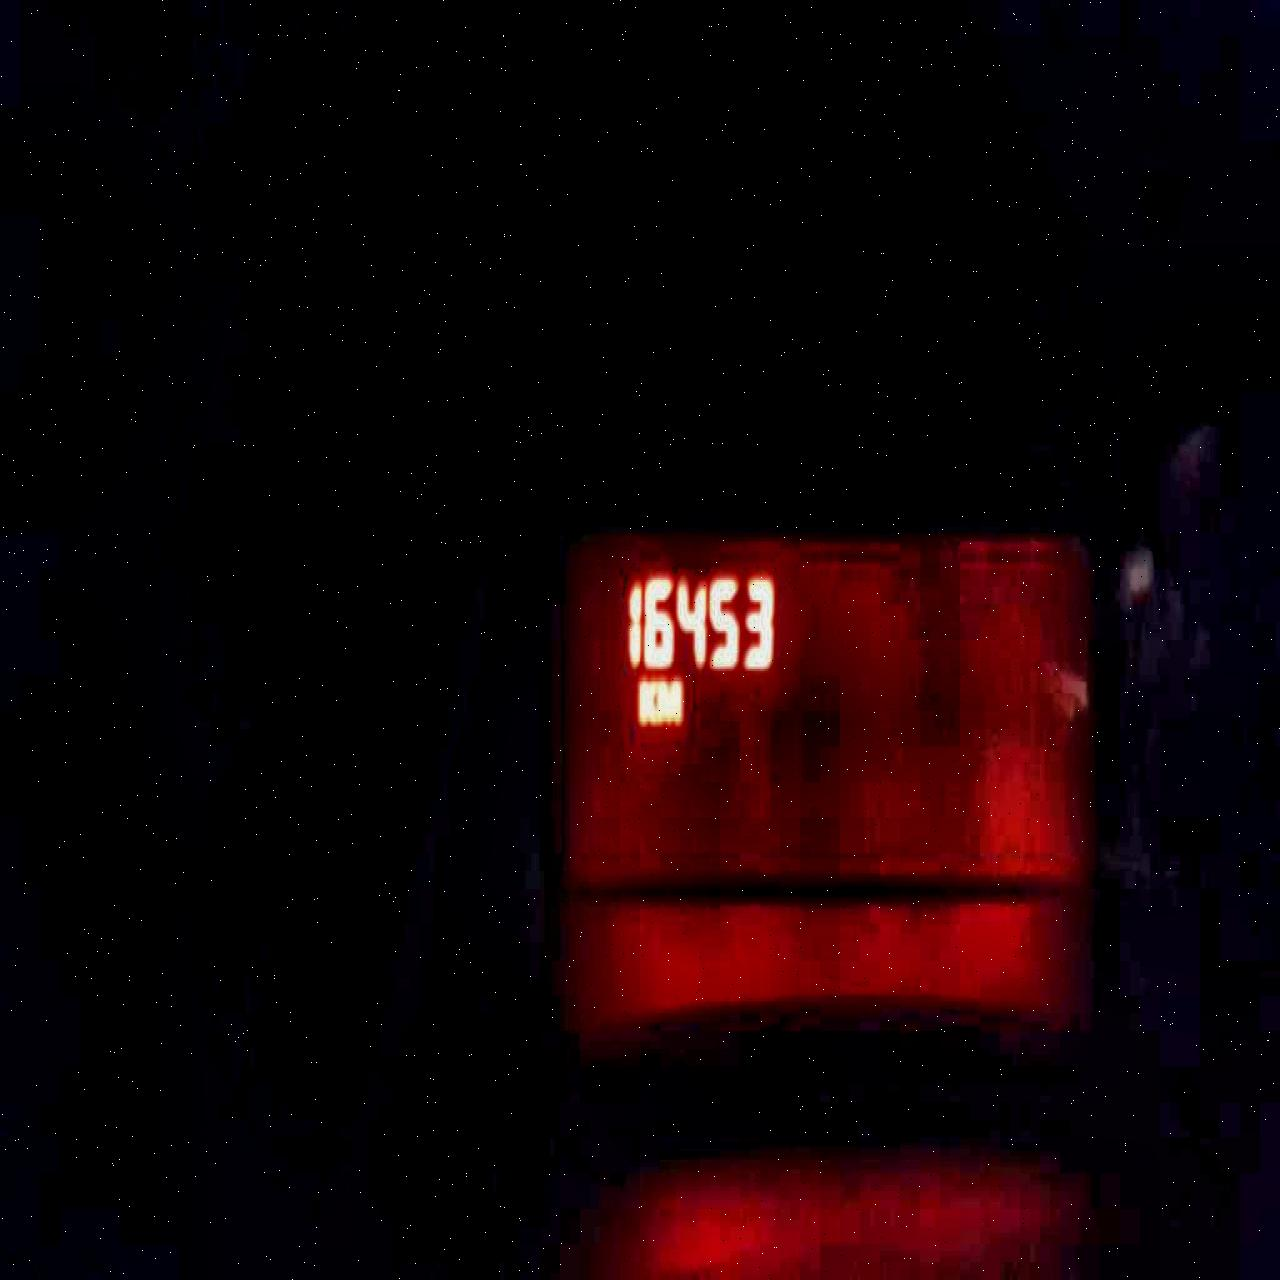1: (626, 578, 641, 669)
3: (741, 573, 775, 669)
4: (675, 573, 706, 669)
5: (707, 573, 738, 669)
6: (640, 573, 675, 669)
X: (655, 674, 685, 724), (636, 673, 656, 727)
odometer: (558, 518, 1103, 904)
